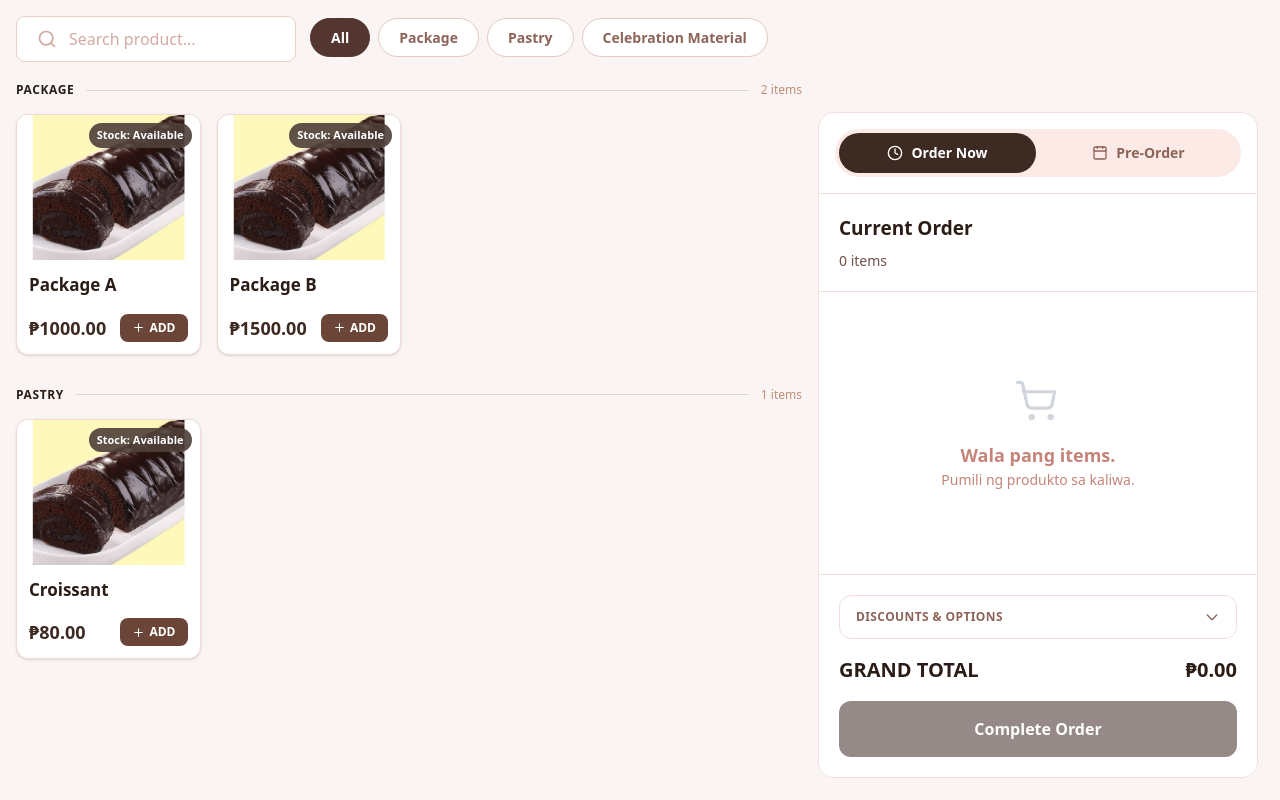
POSPage › opens Review Order modal when Complete Order is clicked
Check: the heading "Croissant" is shown, box top-left (29, 578), bottom-right (109, 600)
// Add a non-Package product (Croissant - Pastry)
Click the button "ADD" next to "80.00".
click(154, 632)  # box top-left (120, 618), bottom-right (188, 646)
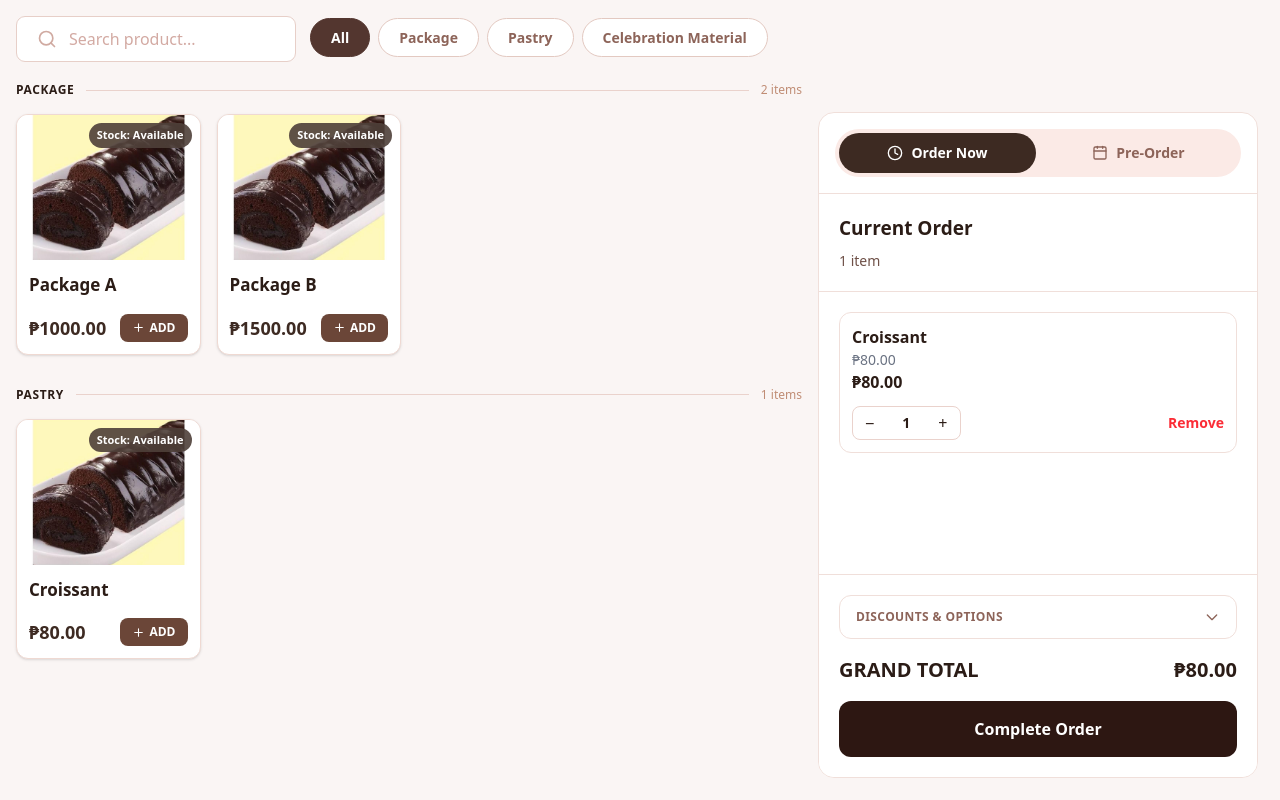
Click the button "Complete Order".
click(1038, 729)  # box top-left (839, 701), bottom-right (1237, 757)
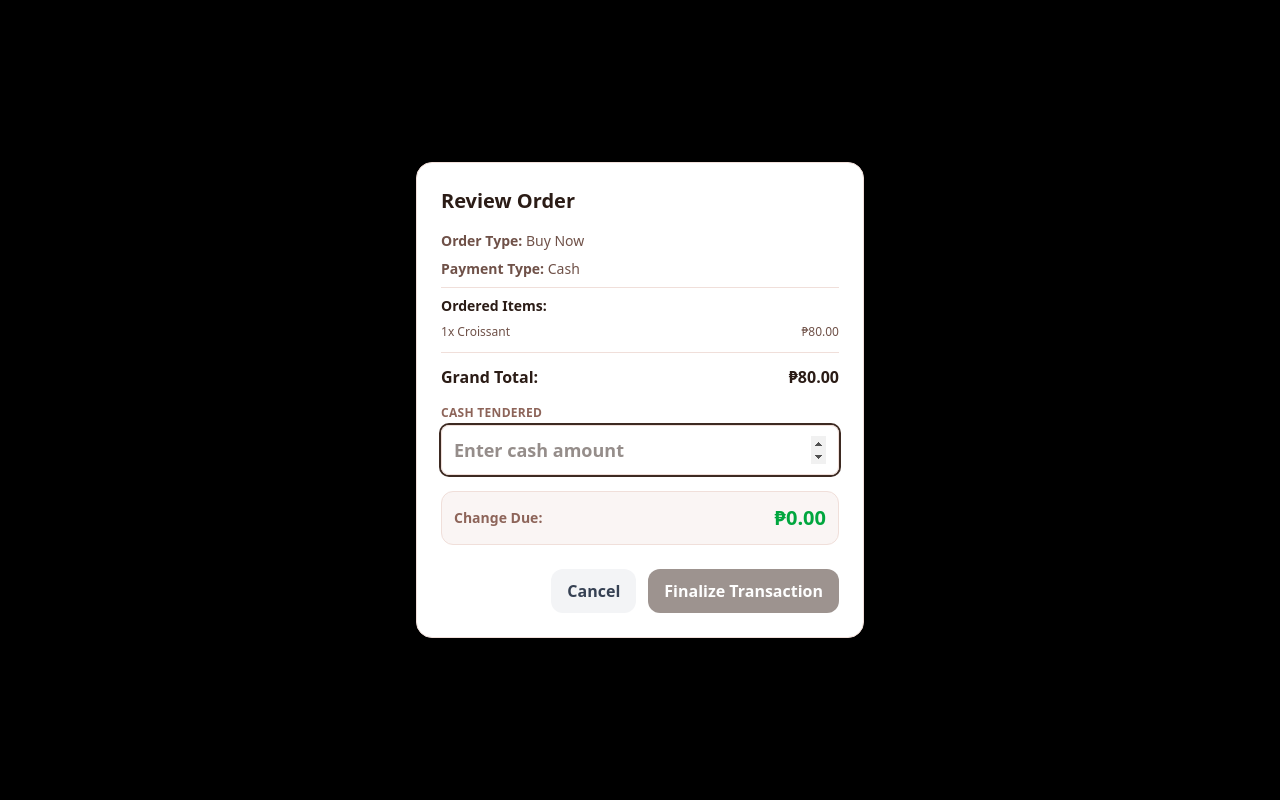
Check: the heading "Review Order" is shown, box top-left (441, 187), bottom-right (575, 214)
Check: the number field with placeholder "Enter cash amount" is shown, box top-left (441, 425), bottom-right (839, 475)
